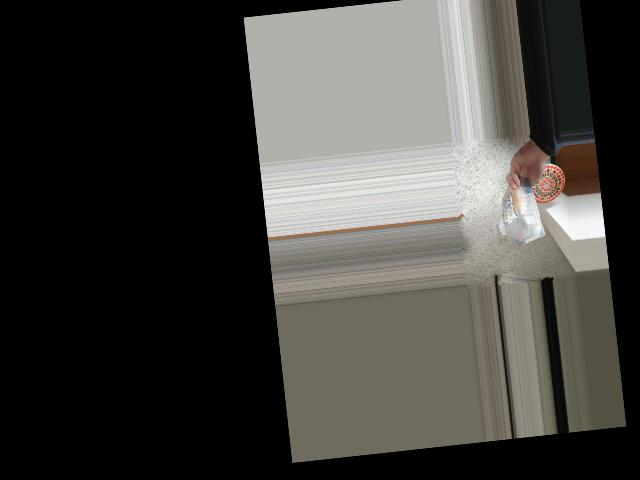cheese: (499, 178, 542, 247)
